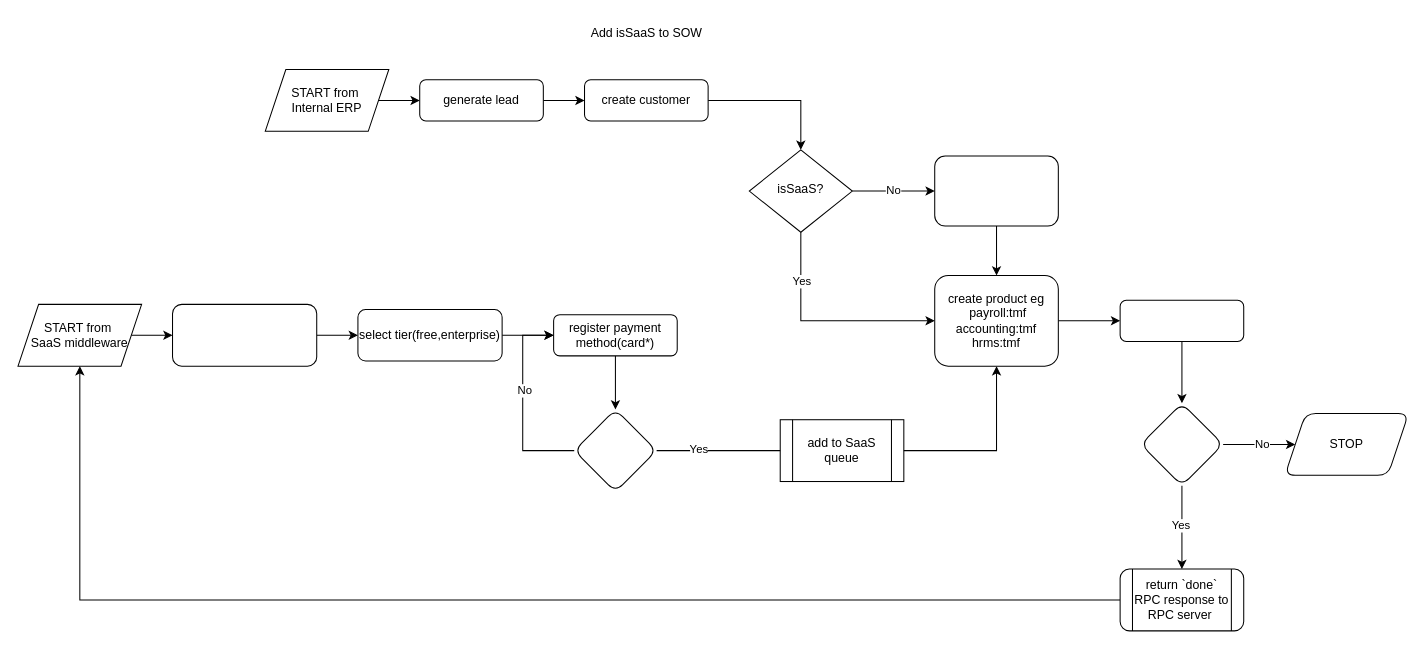
This 1427x649 diagram has some shape labels left out. Each missing label, with the box of its shape:
create environments & licenses: (1119, 299, 1244, 341)
create project & set all modules to inactive: (934, 155, 1058, 226)
isRPC: (1140, 402, 1223, 486)
select software_type(acc,hrms): (171, 303, 317, 366)
valid card?: (573, 408, 657, 492)
